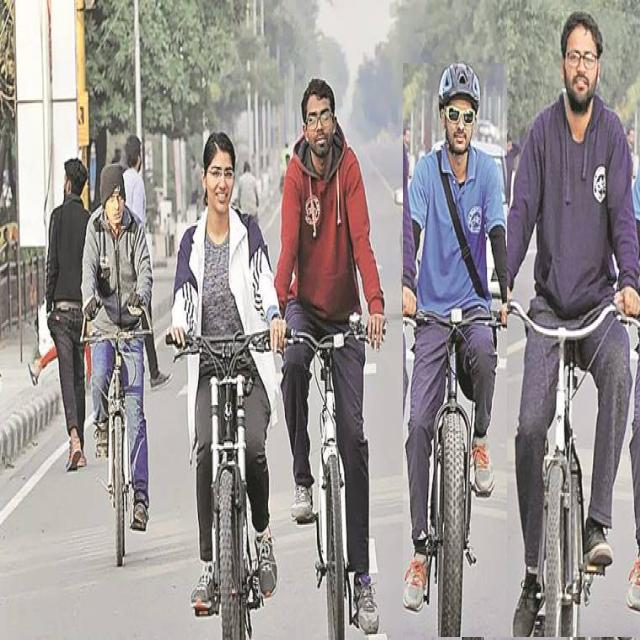bicycle: (507, 12, 640, 637), (403, 63, 519, 637), (275, 79, 385, 637), (168, 133, 286, 637), (81, 164, 152, 564)
